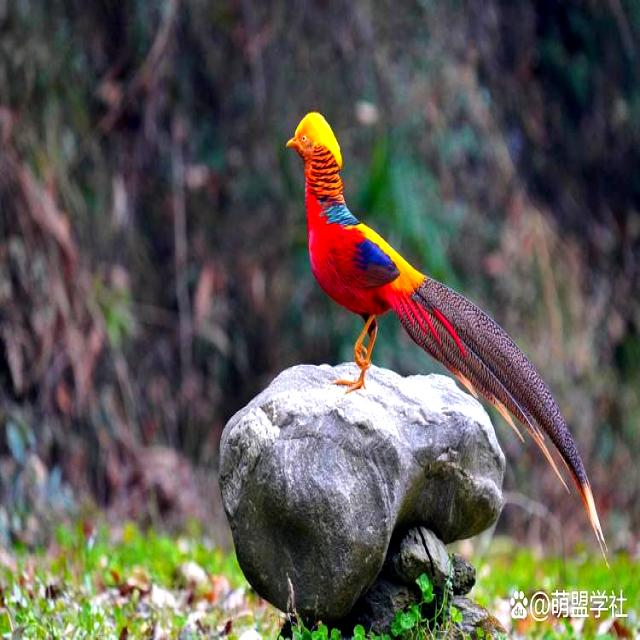Chrysolophus pictus feather: (393, 280, 609, 570)
